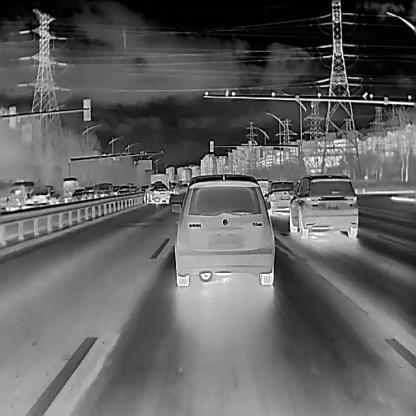car: (171, 173, 275, 285), (287, 174, 358, 238), (264, 181, 297, 215), (5, 180, 33, 211), (22, 185, 61, 207), (143, 182, 170, 203), (63, 178, 78, 199), (96, 182, 113, 197), (81, 187, 96, 197), (70, 188, 83, 199), (116, 185, 130, 194), (128, 185, 137, 194)
